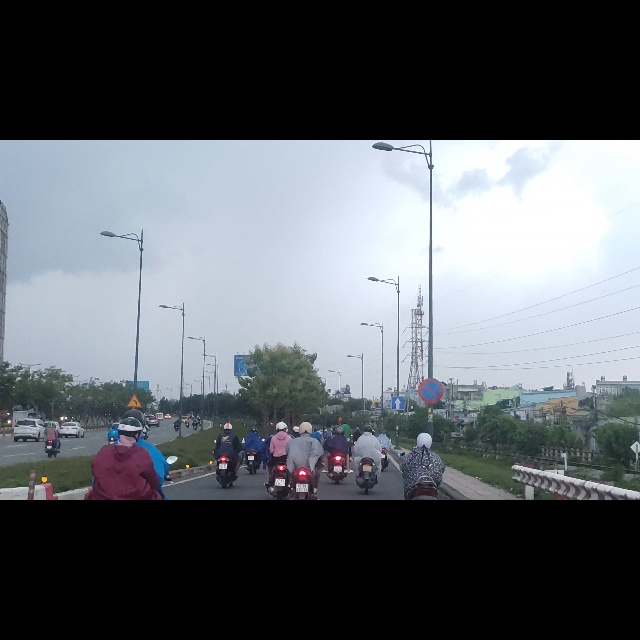bien_nguy_hiem: (419, 424, 443, 468), (127, 452, 142, 478), (391, 456, 405, 479)
